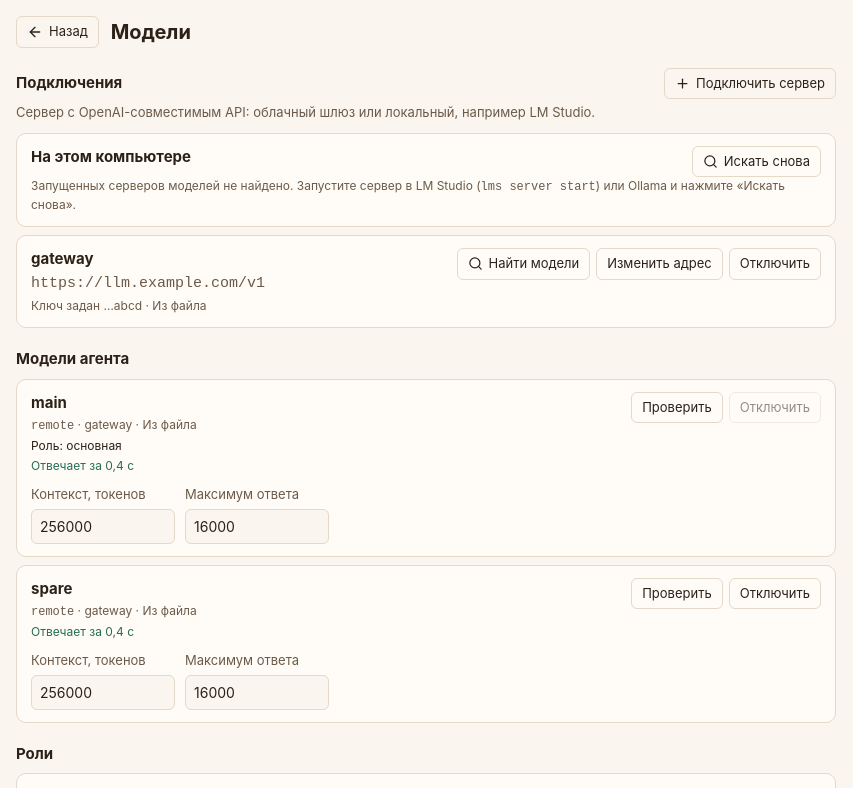
Test: SettingsModelsView › shows the server's refusal instead of hiding it
The image size is (853, 788).
Click the 2nd button with test id "model-toggle".
click(775, 593)  # box 729,578 -> 821,609
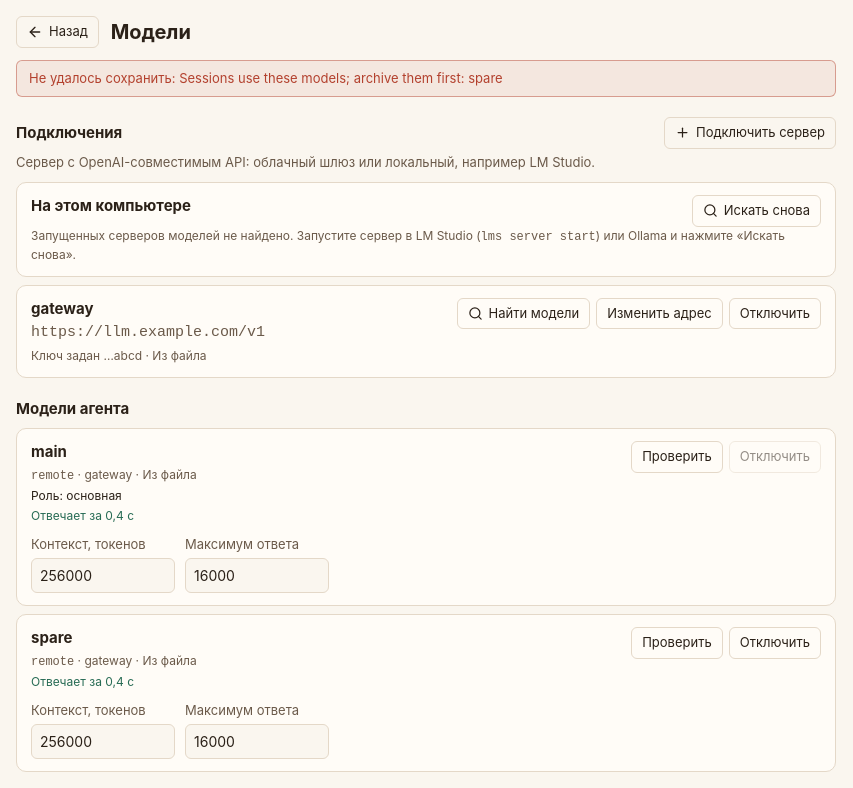
Expected: the message with test id "settings-error" shows "archive them first", 29,70 -> 503,86
